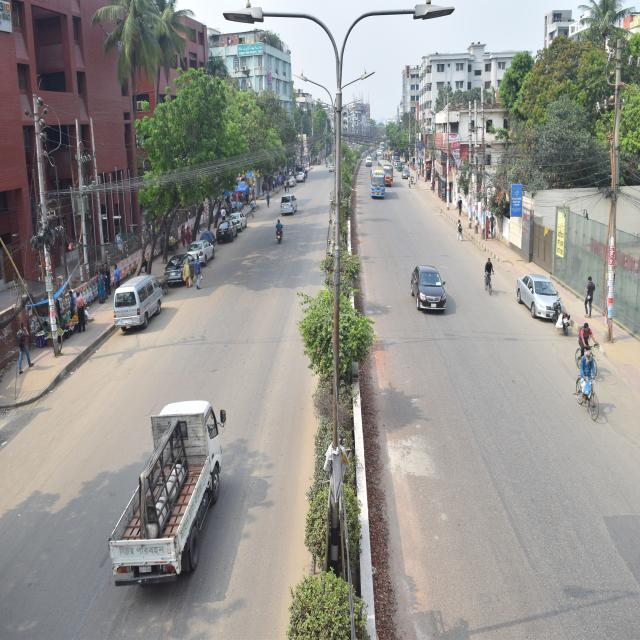bus: (364, 162, 389, 204), (374, 158, 402, 187)
car: (512, 265, 566, 324), (408, 264, 446, 317), (162, 242, 202, 292), (188, 239, 216, 271), (275, 192, 304, 218), (225, 205, 252, 231), (214, 220, 238, 245), (296, 169, 308, 182)
microbus: (106, 271, 167, 336)
motorbike: (547, 293, 573, 337), (268, 218, 287, 252)
pickup-van: (100, 384, 230, 584)
